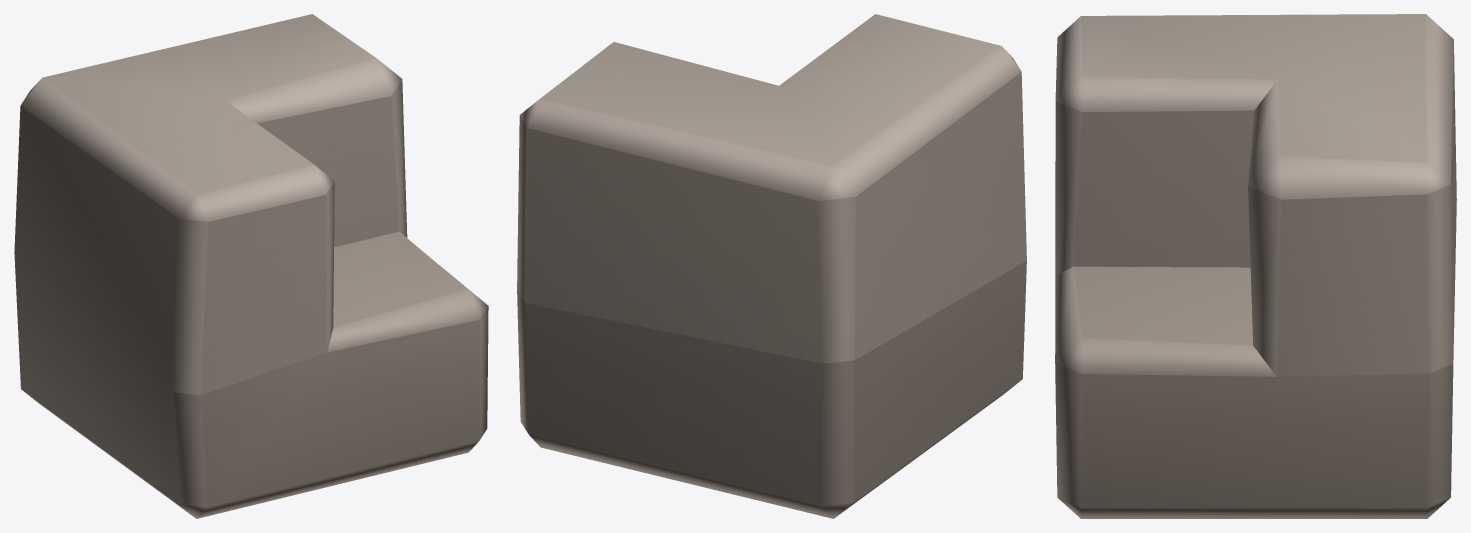
File: elf_stair_corner_conc_shade_2.fbx
The picture shows the model from 3 angles, left to right: view 1: azimuth 30°, elevation 25°; view 2: azimuth 150°, elevation 25°; view 3: azimuth 270°, elevation 25°; orthographic projection. The views are drawn at different scales.
Visible parts, largest first — view 1: elf_stair_corner_conc_shade_2; view 2: elf_stair_corner_conc_shade_2; view 3: elf_stair_corner_conc_shade_2.
Part boxes in pixels (left/top/right/bottom): elf_stair_corner_conc_shade_2: left=14, top=14, right=488, bottom=518; elf_stair_corner_conc_shade_2: left=517, top=14, right=1026, bottom=518; elf_stair_corner_conc_shade_2: left=1055, top=14, right=1456, bottom=518.
Bounding box in the file's own units: 52.26 × 50.74 × 51.02.
